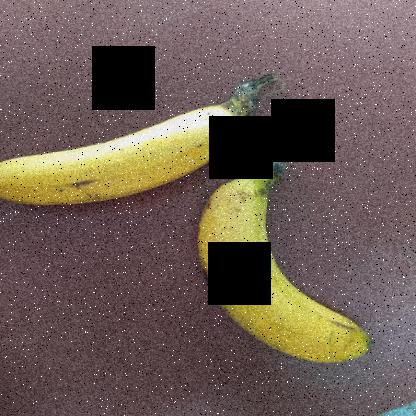freshripe: (192, 172, 368, 368), (0, 106, 233, 218)
